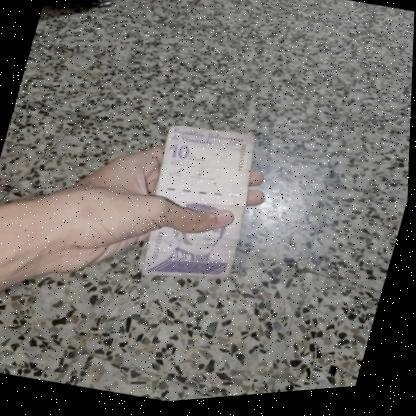vef_front: (131, 119, 268, 299)
